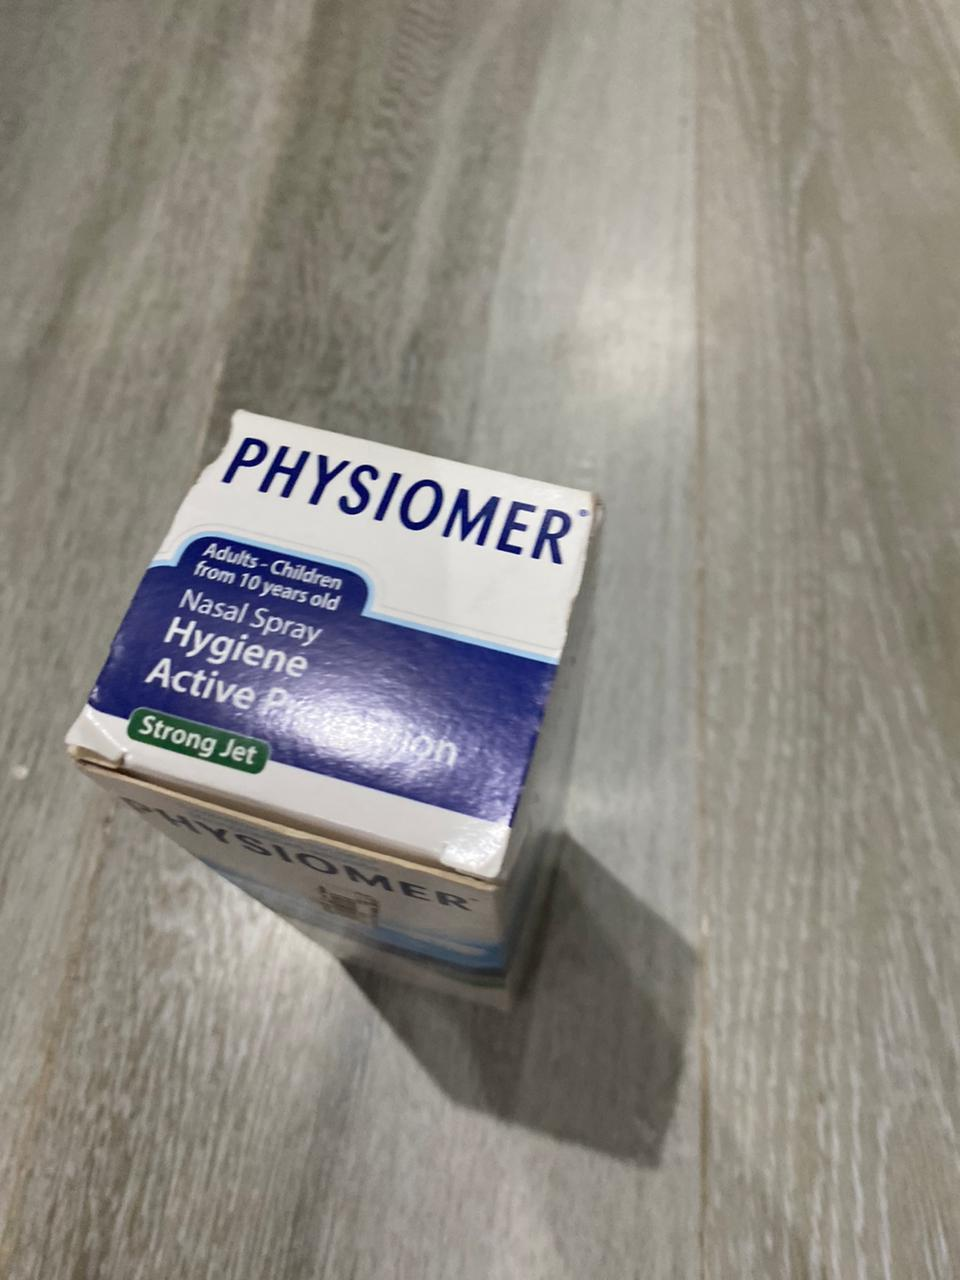Physiomer: (53, 407, 613, 1029)
